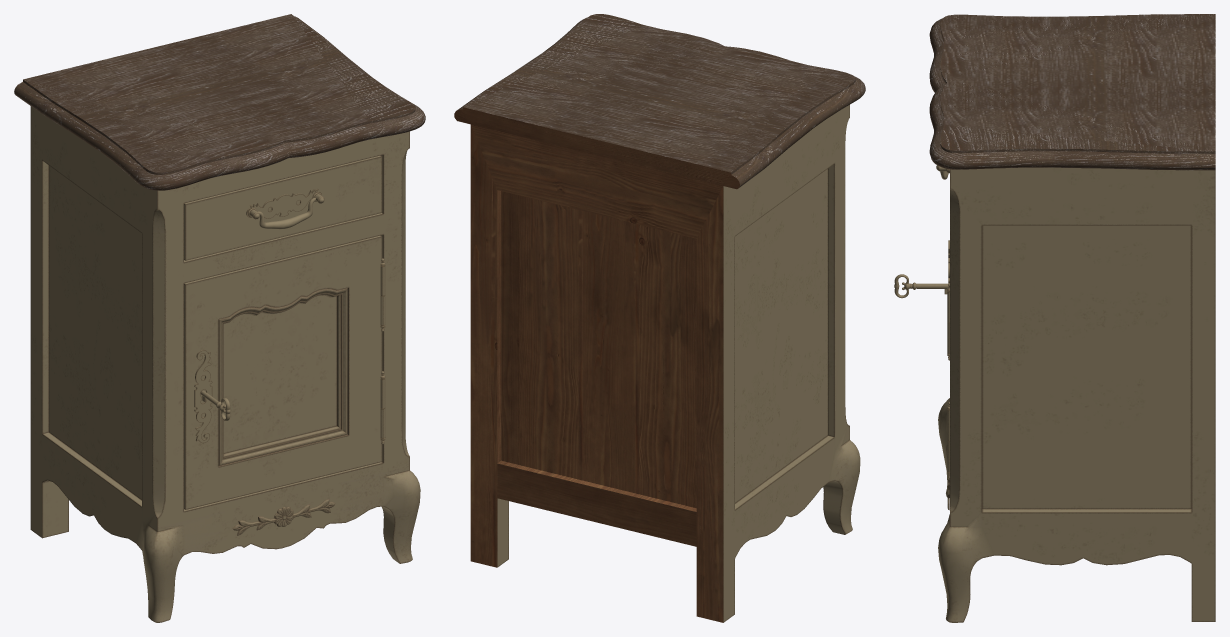
The model's file is example65.gltf.
The picture shows the model from 3 angles, left to right: view 1: azimuth 30°, elevation 25°; view 2: azimuth 150°, elevation 25°; view 3: azimuth 270°, elevation 25°; orthographic projection. The views are drawn at different scales.
Bounding box in the file's own units: 42.99 × 65 × 39.92.
Materials: 4 (4 with a texture image).
